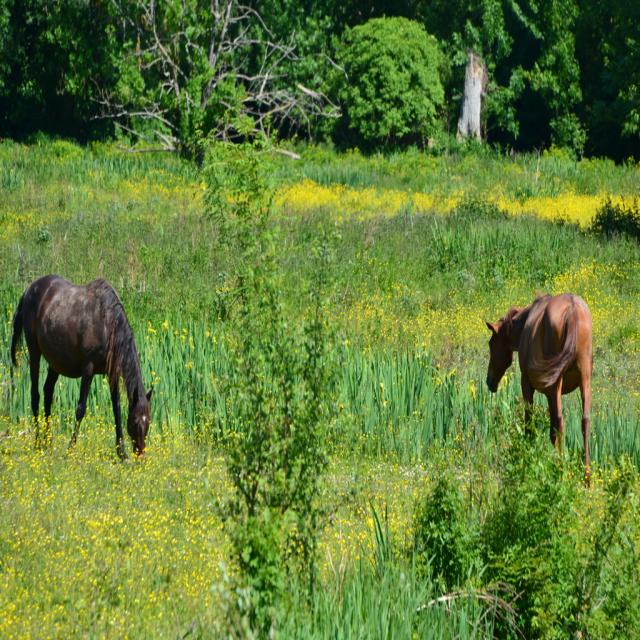Horse: (10, 277, 154, 454), (485, 288, 591, 486)
